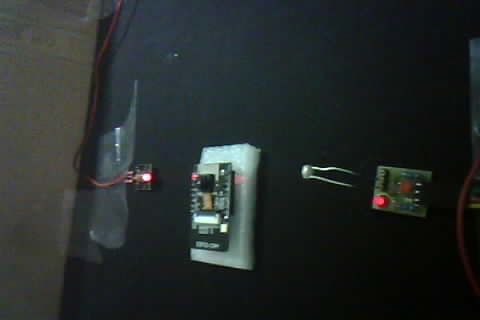esp32: (183, 145, 252, 265)
